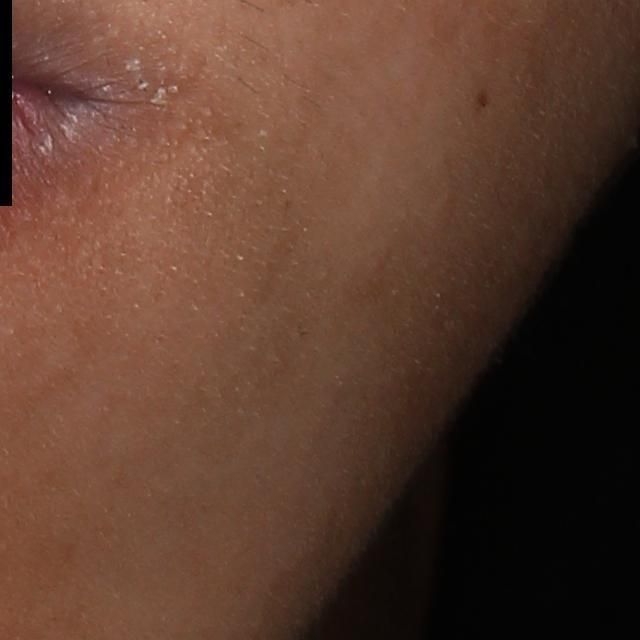nevus: (476, 91, 489, 111)
